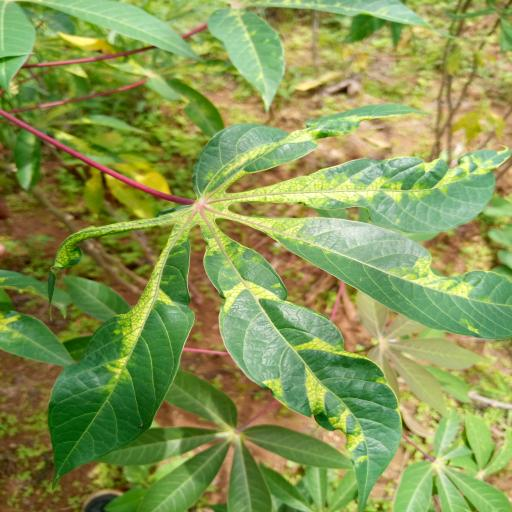Cassava_Mosaic: (42, 104, 512, 487)
